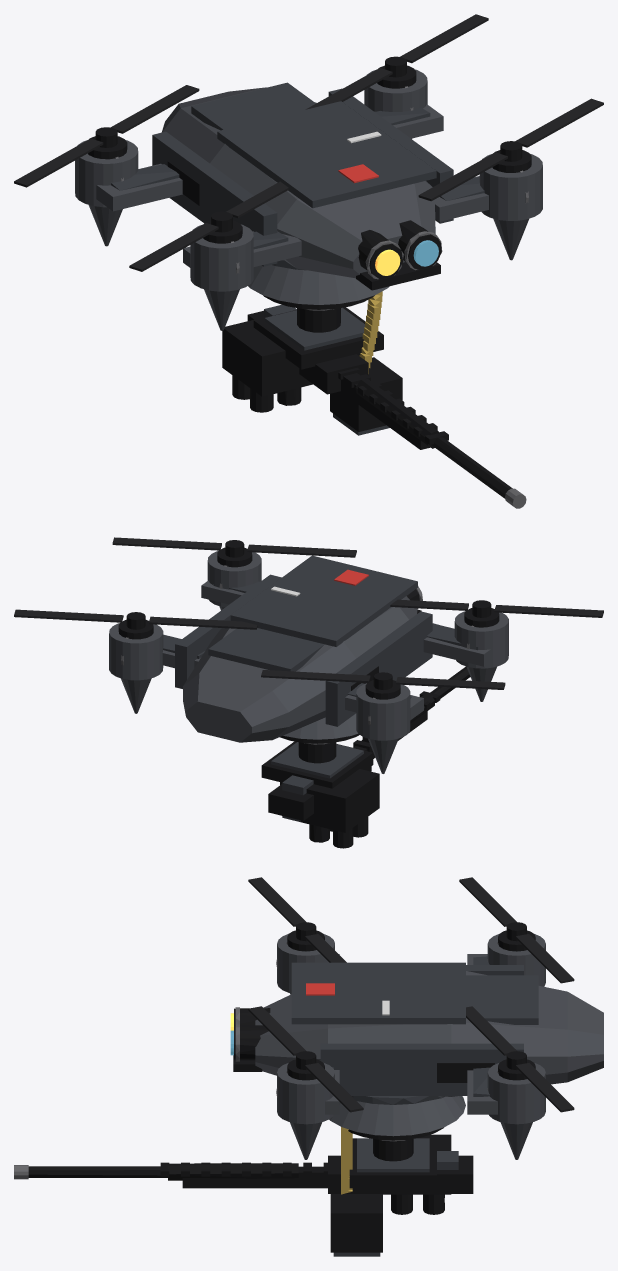
File: drone.glb
3 renders of one model, top to bottom at view 1: azimuth 30°, elevation 25°; view 2: azimuth 150°, elevation 25°; view 3: azimuth 270°, elevation 25°, orthographic. The views are drawn at different scales.
Visible parts, largest first — view 1: Body, Rotor_LF, Rotor_RR, Rotor_LR, Rotor_RF; view 2: Body, Rotor_LF, Rotor_RR, Rotor_LR, Rotor_RF; view 3: Body, Rotor_RR, Rotor_LF, Rotor_LR, Rotor_RF.
Part boxes in pixels (x1,y1,x2,y2): Body: (75,65,542,508); Rotor_LF: (418,98,603,201); Rotor_RR: (14,85,199,187); Rotor_LR: (305,14,488,109); Rotor_RF: (129,181,288,271); Body: (109,547,508,848); Rotor_LF: (112,537,356,557); Rotor_RR: (261,670,505,689); Rotor_LR: (14,609,257,629); Rotor_RF: (390,599,603,617); Body: (14,930,603,1256); Rotor_RR: (459,877,574,983); Rotor_LF: (248,1006,363,1112); Rotor_LR: (466,1006,574,1112); Rotor_RF: (248,877,346,962).
Bounding box in the file's own units: 3.8 × 1.87 × 4.06.
